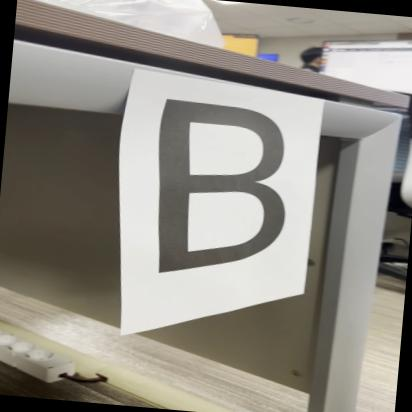seat: (108, 69, 352, 294)
